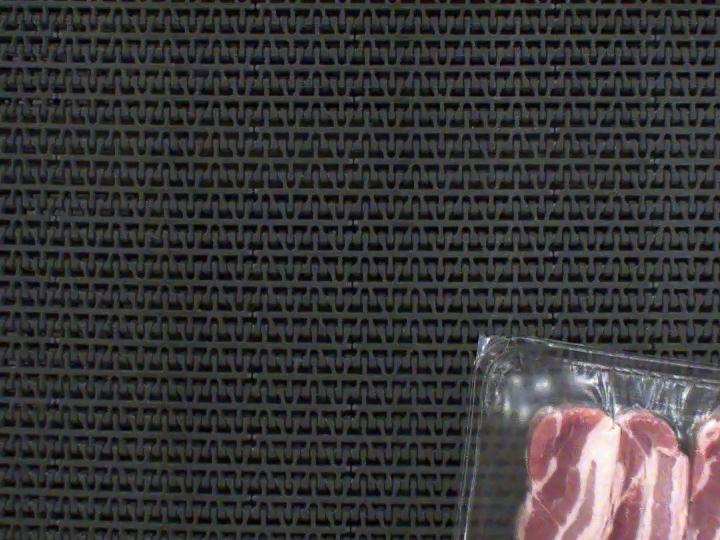unsealed: (480, 343, 720, 540)
